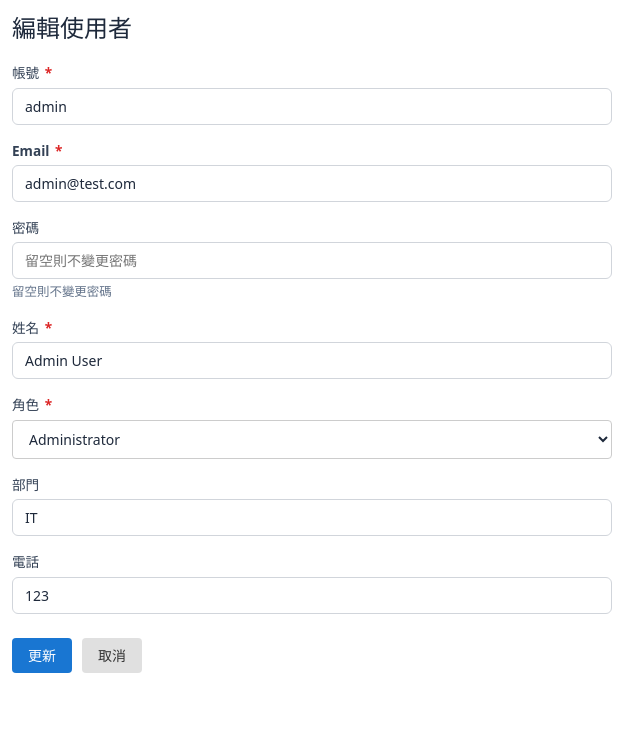
Scenario: UserEditPage › shows validation errors
This screenshot has width=632, height=742.
Clear the field labelled "帳號 *". click: (312, 106)
box: [12, 88, 612, 125]
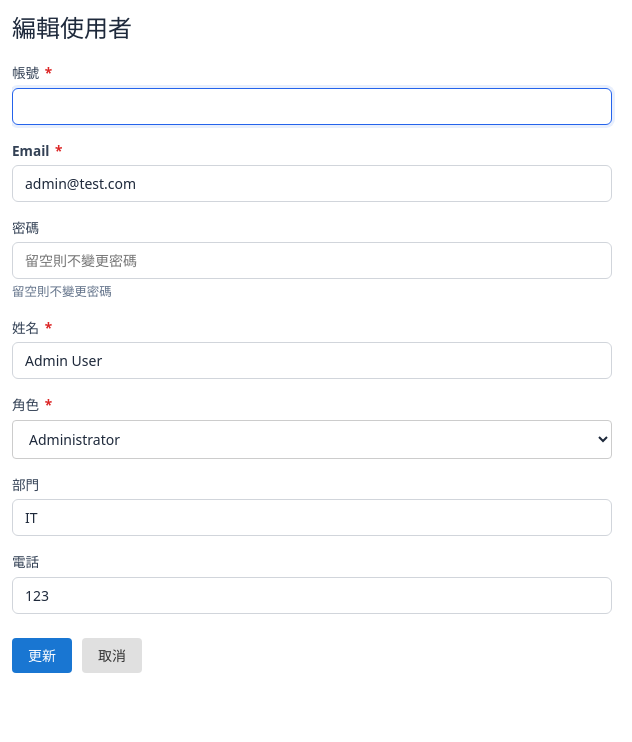
Click the button "更新". click: (42, 655)
box: [12, 638, 72, 673]
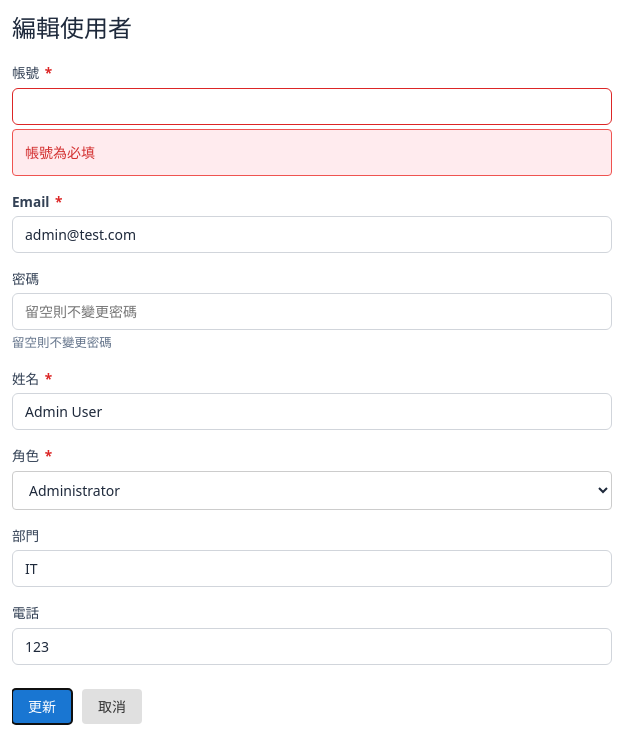
Check: the text "帳號為必填" is shown, box [12, 129, 612, 176]
